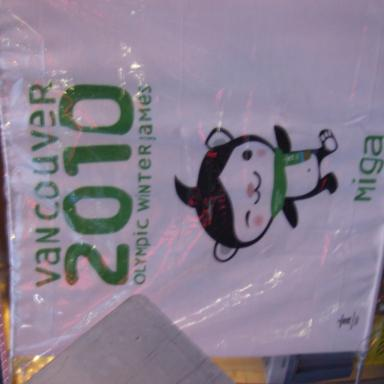plasticbag: (0, 35, 384, 358)
